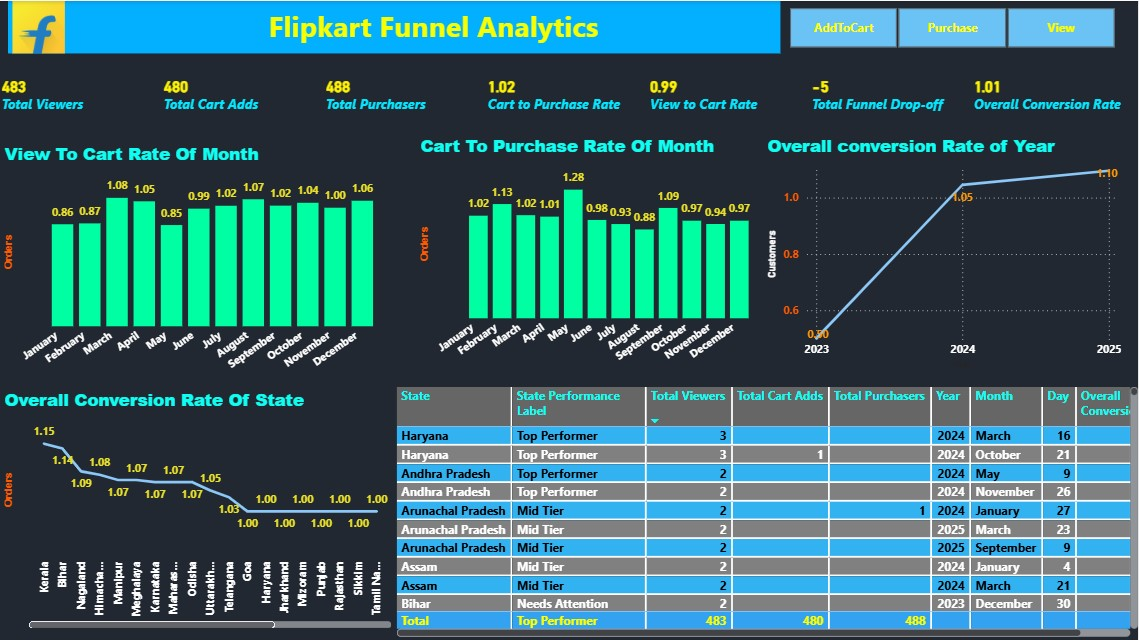

The page's visual inventory and layout, read from the dashboard file:
{"tool":"powerbi","page":{"name":"Conversion Funnel analytics","canvas":[1280,720],"ordinal":5},"visuals":[{"type":"textbox","box":[8.9,0,869.3,58.7],"z":0},{"type":"multiRowCard","fields":{"Values":["events.Total Viewers","events.Total Cart Adds","events.Total Purchasers","events.Cart to Purchase Rate","events.View to Cart Rate","events.Total Funnel Drop-off","events.Overall Conversion Rate"]},"box":[0,86.2,1280,54.2],"z":1000},{"type":"image","box":[0,0,86.2,58.7],"z":2000},{"type":"lineChart","title":"Overall Conversion Rate  Of State","fields":{"Category":["customers.State"],"Y":["events.Overall Conversion Rate"]},"box":[0,433.8,445.3,276.4],"z":3000},{"type":"tableEx","fields":{"Values":["customers.State","order_details.State Performance Label","events.Total Viewers","events.Total Cart Adds","events.Total Purchasers","events.EventTime.Variation.Date Hierarchy.Year","events.EventTime.Variation.Date Hierarchy.Month","events.EventTime.Variation.Date Hierarchy.Day","events.Overall Conversion Rate"]},"box":[445.3,433.8,834.7,286.2],"z":4000},{"type":"lineChart","title":"Overall conversion Rate of Year","fields":{"Category":["events.EventTime.Variation.Date Hierarchy.Year"],"Y":["events.Conversion Rate by State"]},"box":[858.7,148.4,408,270.2],"z":5000},{"type":"columnChart","title":"Cart To Purchase Rate  Of Month","fields":{"Category":["events.EventTime.Variation.Date Hierarchy.Month"],"Y":["events.Cart to Purchase Rate"]},"box":[468.4,148.4,390.2,276.4],"z":6000},{"type":"slicer","fields":{"Values":["events.EventType"]},"box":[863.1,0.9,415.1,57.8],"z":7000},{"type":"columnChart","title":"View To Cart Rate  Of Month","fields":{"Category":["events.EventTime.Variation.Date Hierarchy.Month"],"Y":["events.View to Cart Rate"]},"box":[0,157.3,437.3,276.4],"z":8000}]}

Visuals, with their boxes in screenshot pixels (x1, y1, x2, y2), scaled from the page's 1280x720 canvas onto the 1139x640 screenshot:
textbox: [8,0,781,52]
multiRowCard - events.Total Viewers x events.Total Cart Adds: [0,77,1138,125]
image: [0,0,77,52]
"Overall Conversion Rate  Of State" lineChart: [0,386,396,631]
tableEx - customers.State x order_details.State Performance Label: [396,386,1138,639]
"Overall conversion Rate of Year" lineChart: [764,132,1127,372]
"Cart To Purchase Rate  Of Month" columnChart: [417,132,764,378]
slicer - events.EventType: [768,1,1137,52]
"View To Cart Rate  Of Month" columnChart: [0,140,389,386]
